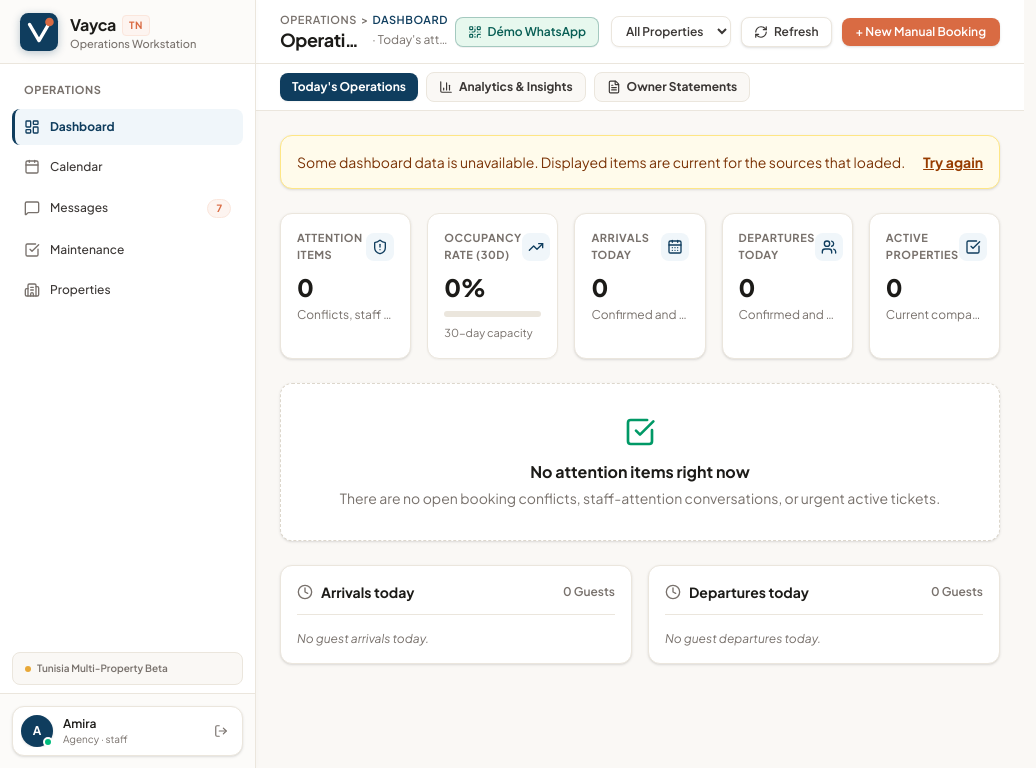
Test: App inbox unread state › removes a conversation from the unread view after it is marked read
Click the button "Messages 7" at (128, 208), box [12, 188, 243, 228]
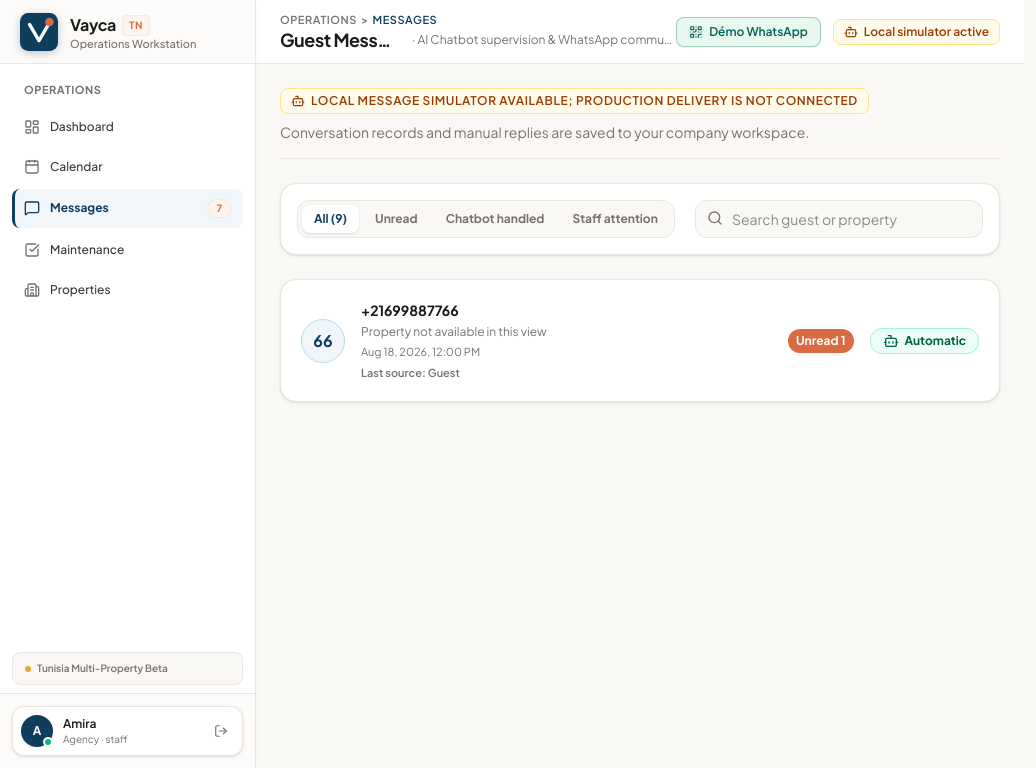
Click the button "Unread" at (396, 219), box [363, 205, 430, 233]
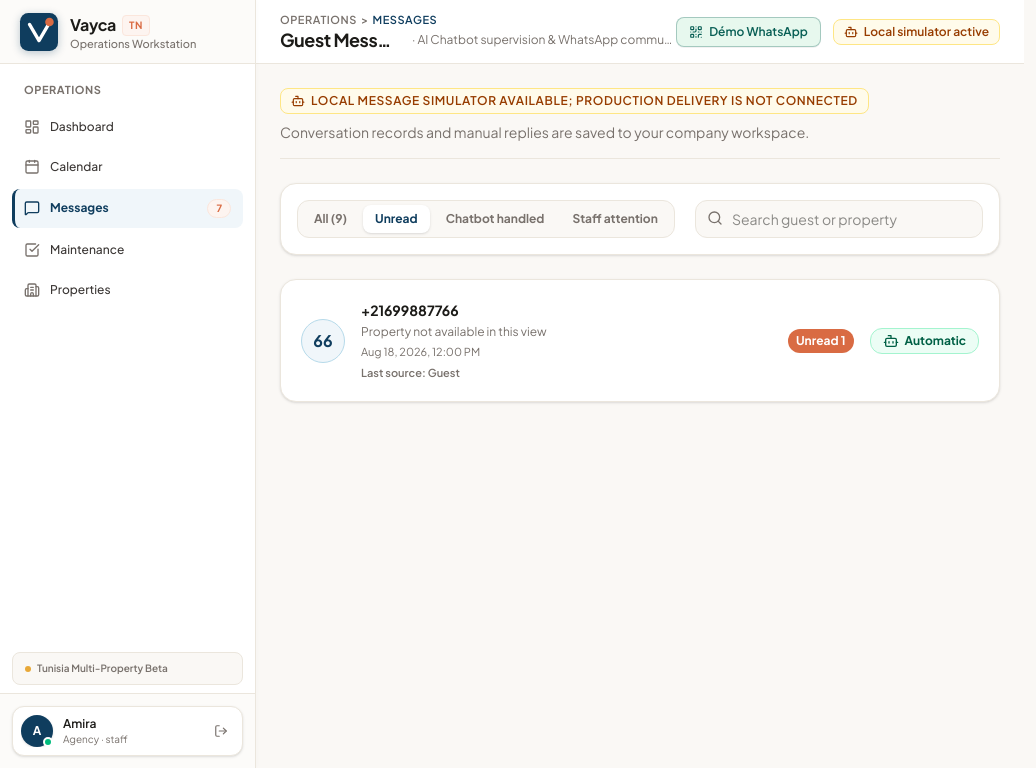
Click the button "+21699887766" at (323, 340), box [281, 280, 999, 401]
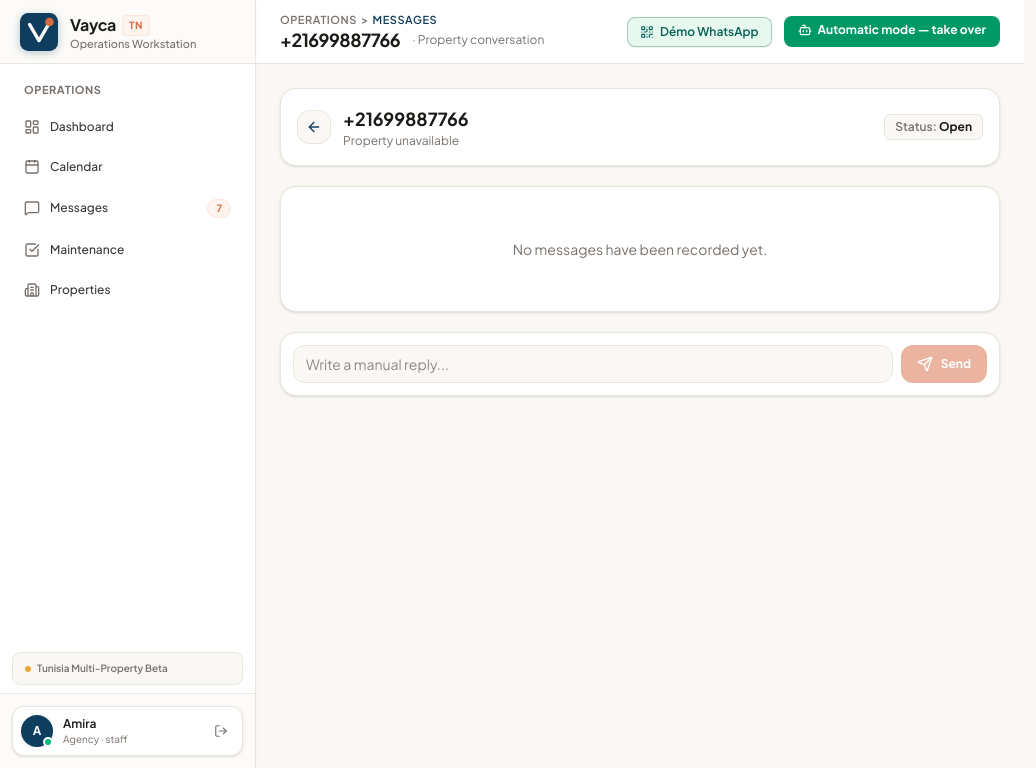
Now the button named "Back to messages" is shown
Click the button named "Back to messages" at (314, 127), box [297, 110, 331, 144]
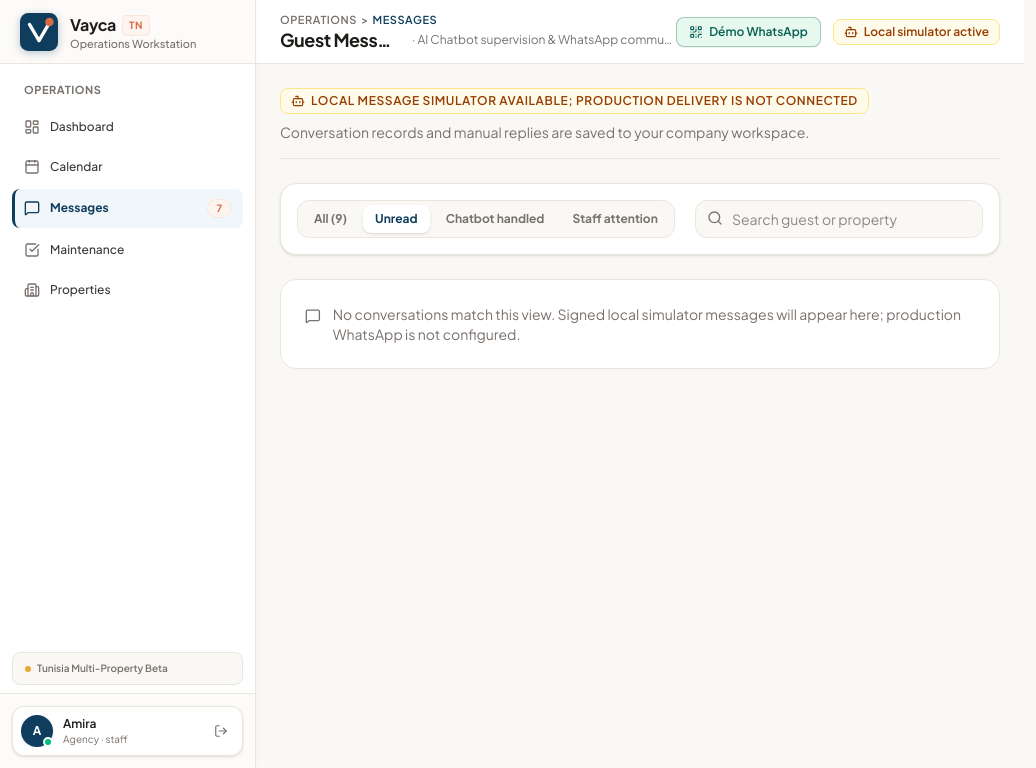
Now the text "No conversations match this view" is shown, box [333, 305, 961, 343]
